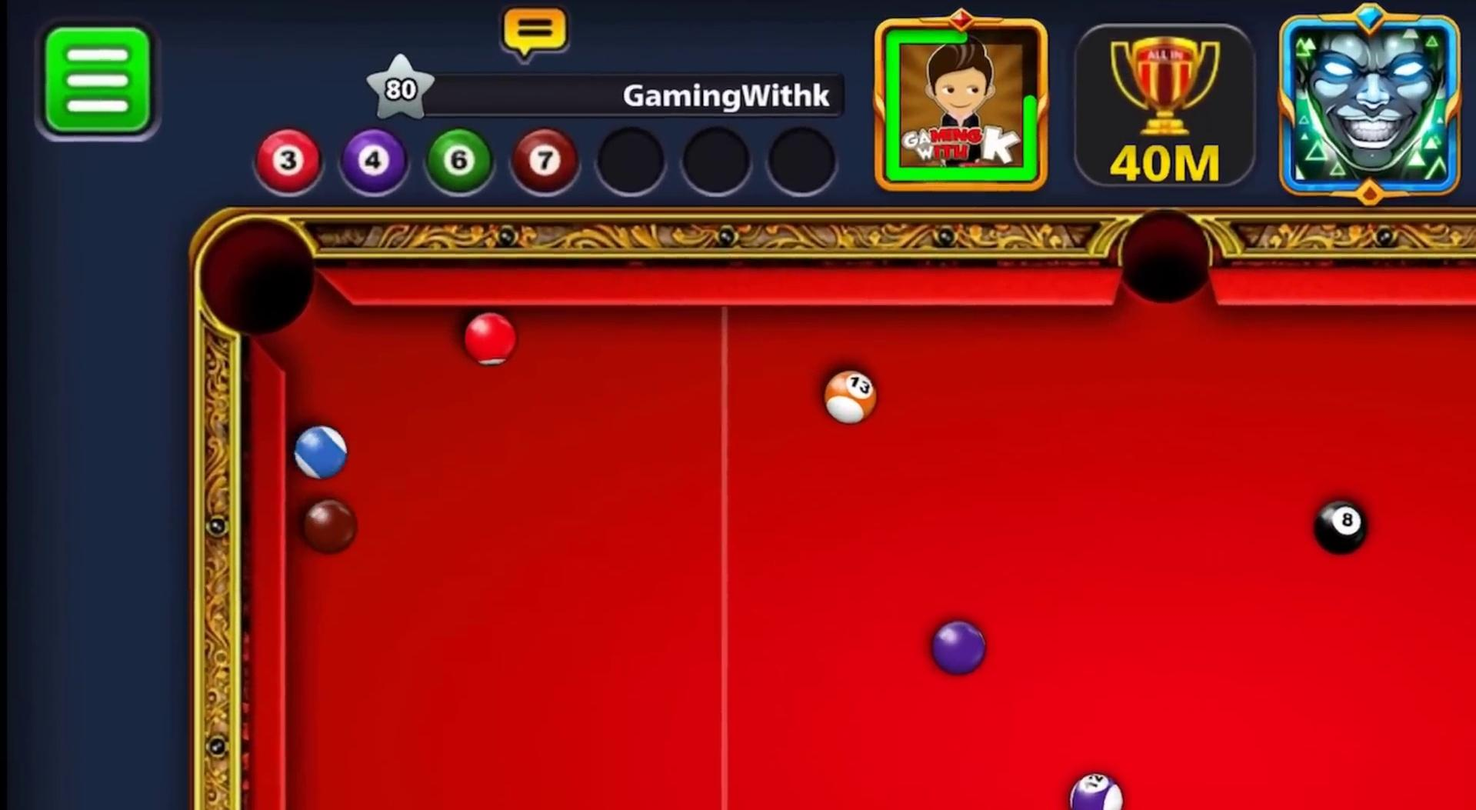Ball: (455, 308, 525, 374), (300, 498, 357, 555), (292, 424, 348, 481), (822, 369, 876, 426), (931, 620, 985, 676), (1314, 498, 1367, 555), (1065, 768, 1131, 810)
Hole: (200, 218, 320, 342), (1116, 212, 1214, 306)
